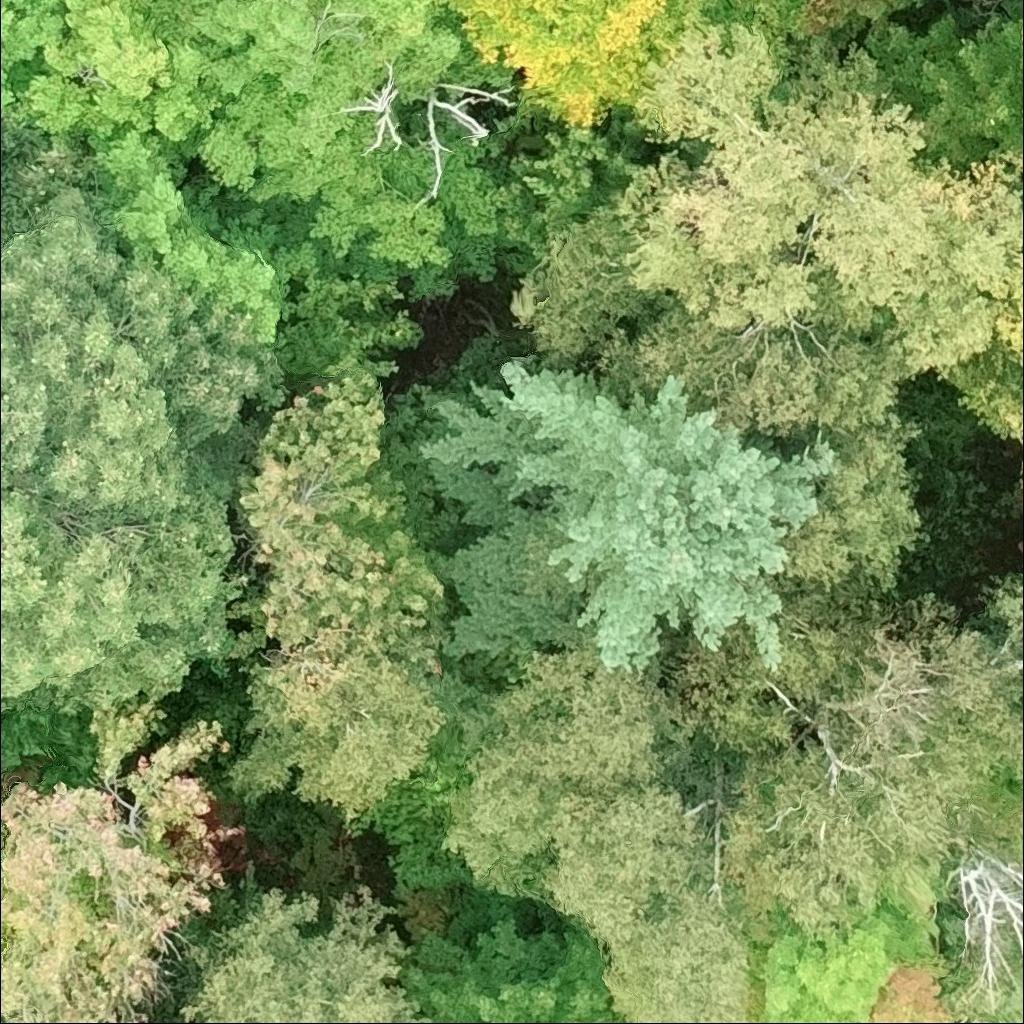crown: (0, 113, 288, 716), (387, 331, 841, 678), (617, 18, 1023, 385), (657, 562, 1023, 943), (440, 622, 762, 1023), (136, 0, 519, 298), (72, 125, 433, 378), (208, 351, 471, 673), (0, 688, 252, 1023), (594, 276, 917, 439), (222, 611, 453, 827), (179, 859, 437, 1023), (436, 0, 703, 131), (749, 869, 968, 1023), (772, 410, 932, 611), (402, 884, 625, 1023), (865, 0, 1023, 166), (508, 191, 657, 366), (0, 0, 173, 139), (494, 120, 646, 257), (944, 355, 1023, 502), (0, 821, 7, 859), (1019, 21, 1023, 41), (0, 943, 4, 961), (1019, 536, 1023, 549)
